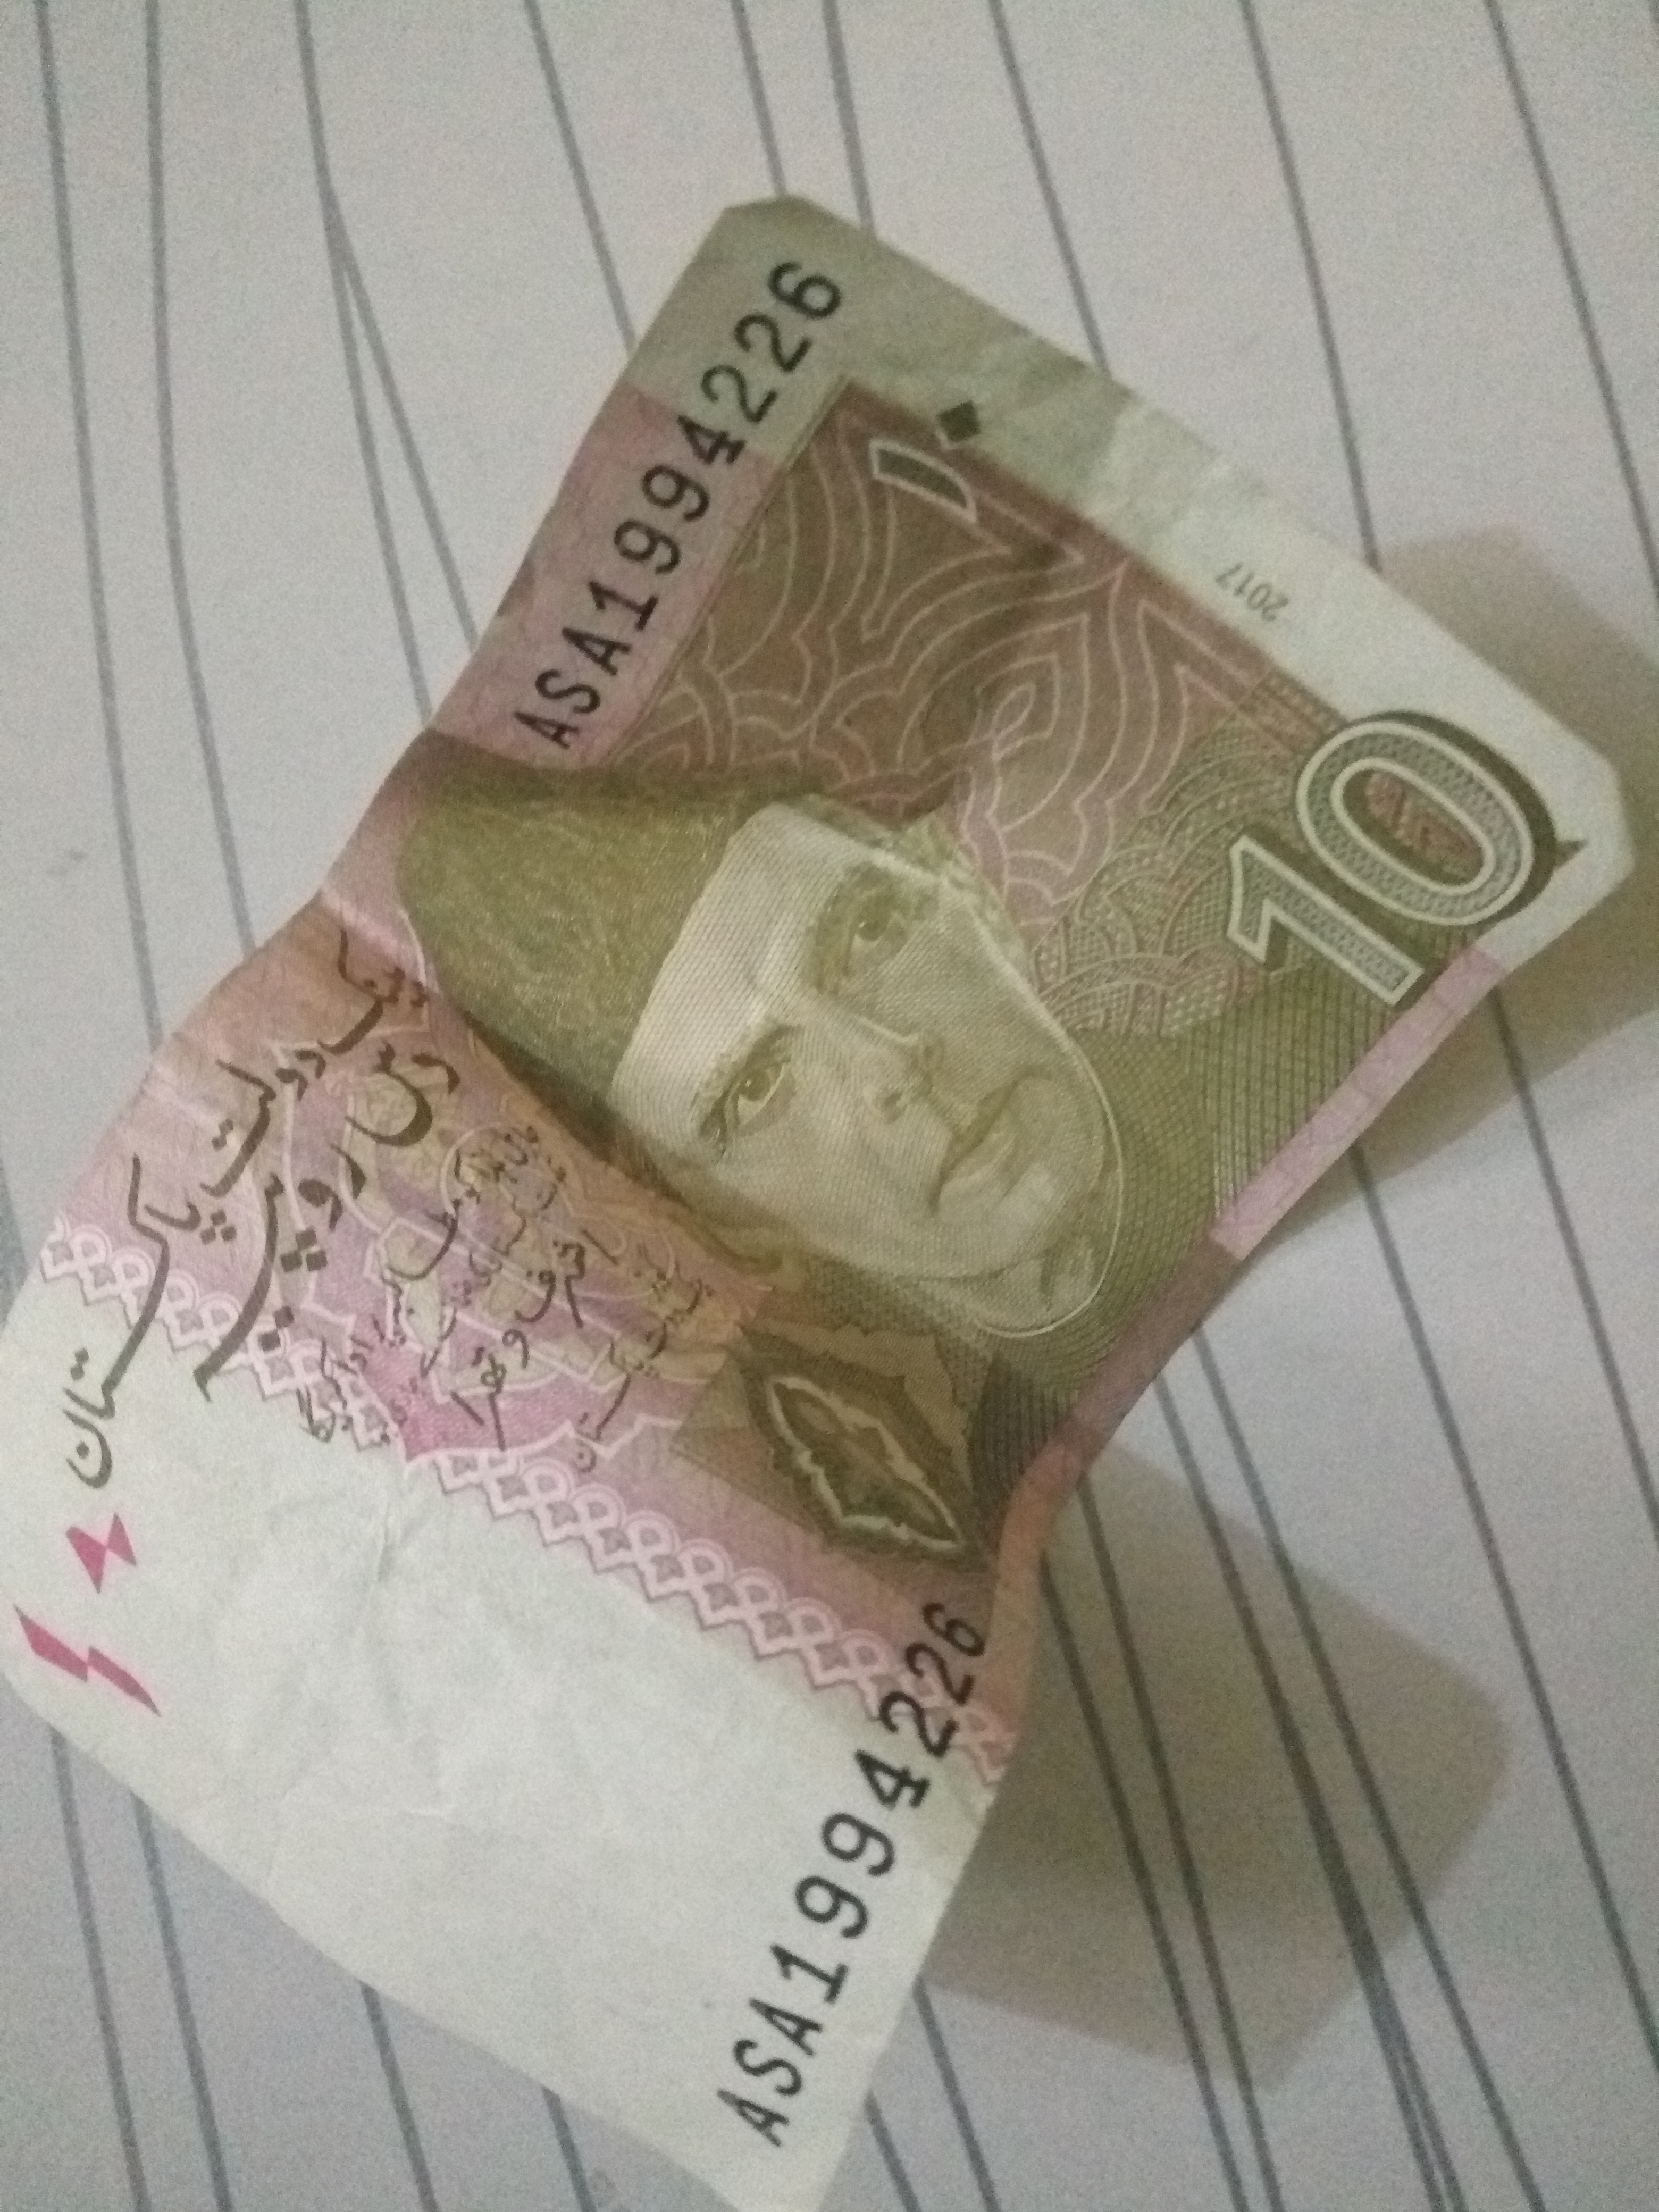10 rupee: (0, 160, 1624, 2137)
